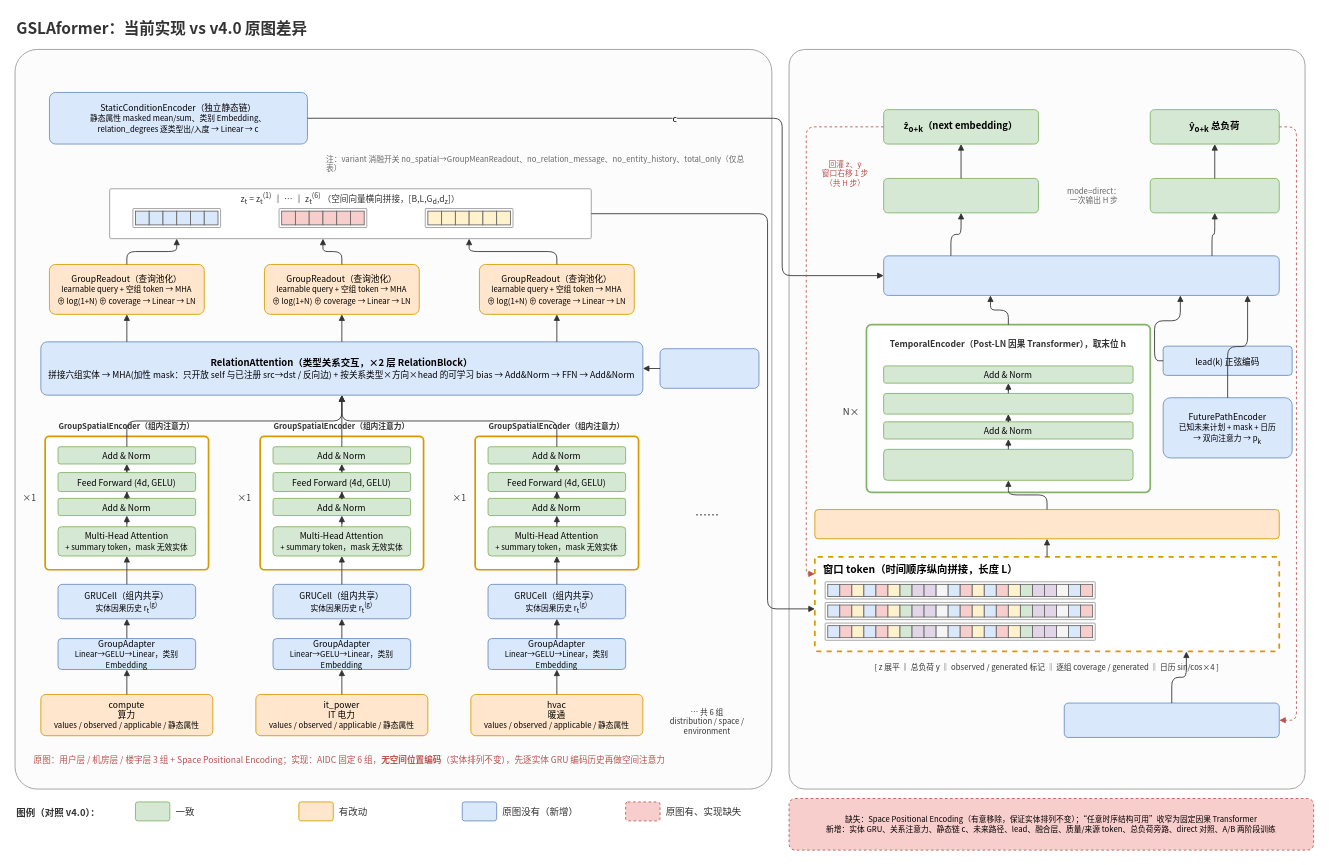
Some shapes in this 1329 by 865 pixel diagram are drawn without their labels. The shapes that lost their labels are listed below. From the top down, each one's box as (x1, y1, x2, y2) in pixels, then its label:
(883, 178, 1038, 213): latent_heads 每组 Linear(d t ,d z )
(1149, 178, 1279, 213): load_head Linear(d t ,1)
(883, 255, 1279, 295): ConditionFusion：[ h ‖ c ‖ p k ‖ lead(k) ] → Linear → GELU → Linear
(659, 348, 759, 388): 关系边表 R t relations_history
(14, 49, 772, 789): (a) 空间表示链 encode_history → z_t、c
(883, 393, 1133, 414): Feed Forward (4d t , GELU)
(788, 49, 1305, 789): (b) 系统时间链与双头自由递推 rollout
(883, 448, 1133, 480): Masked Multi-Head Attention 上三角因果 mask
(814, 509, 1279, 539): Linear → d t ⊕ 窗口内正弦位置编码 ⊕ 日历 Linear
(1063, 702, 1279, 737): 总负荷历史 y（显式旁路） target_history
